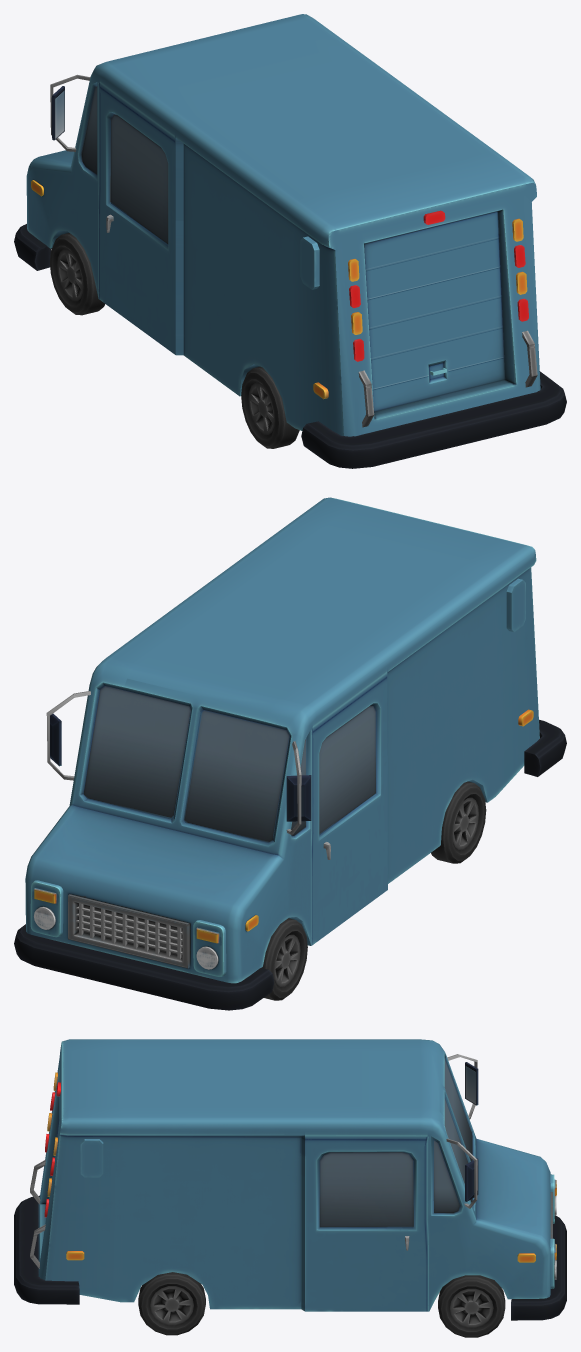
File: Truck.fbx
3 renders of one model, top to bottom at view 1: azimuth 30°, elevation 25°; view 2: azimuth 150°, elevation 25°; view 3: azimuth 270°, elevation 25°, orthographic. The views are drawn at different scales.
Visible parts, largest first — view 1: delivery_truck; view 2: delivery_truck; view 3: delivery_truck.
Boxes of the visible parts, box(x1,y1,x2,y2) form: delivery_truck: box(14, 14, 566, 468); delivery_truck: box(14, 497, 566, 1010); delivery_truck: box(14, 1039, 566, 1337).
Size of the model in its own units: 639 by 622 by 1440.
1 material, 1 textured.
